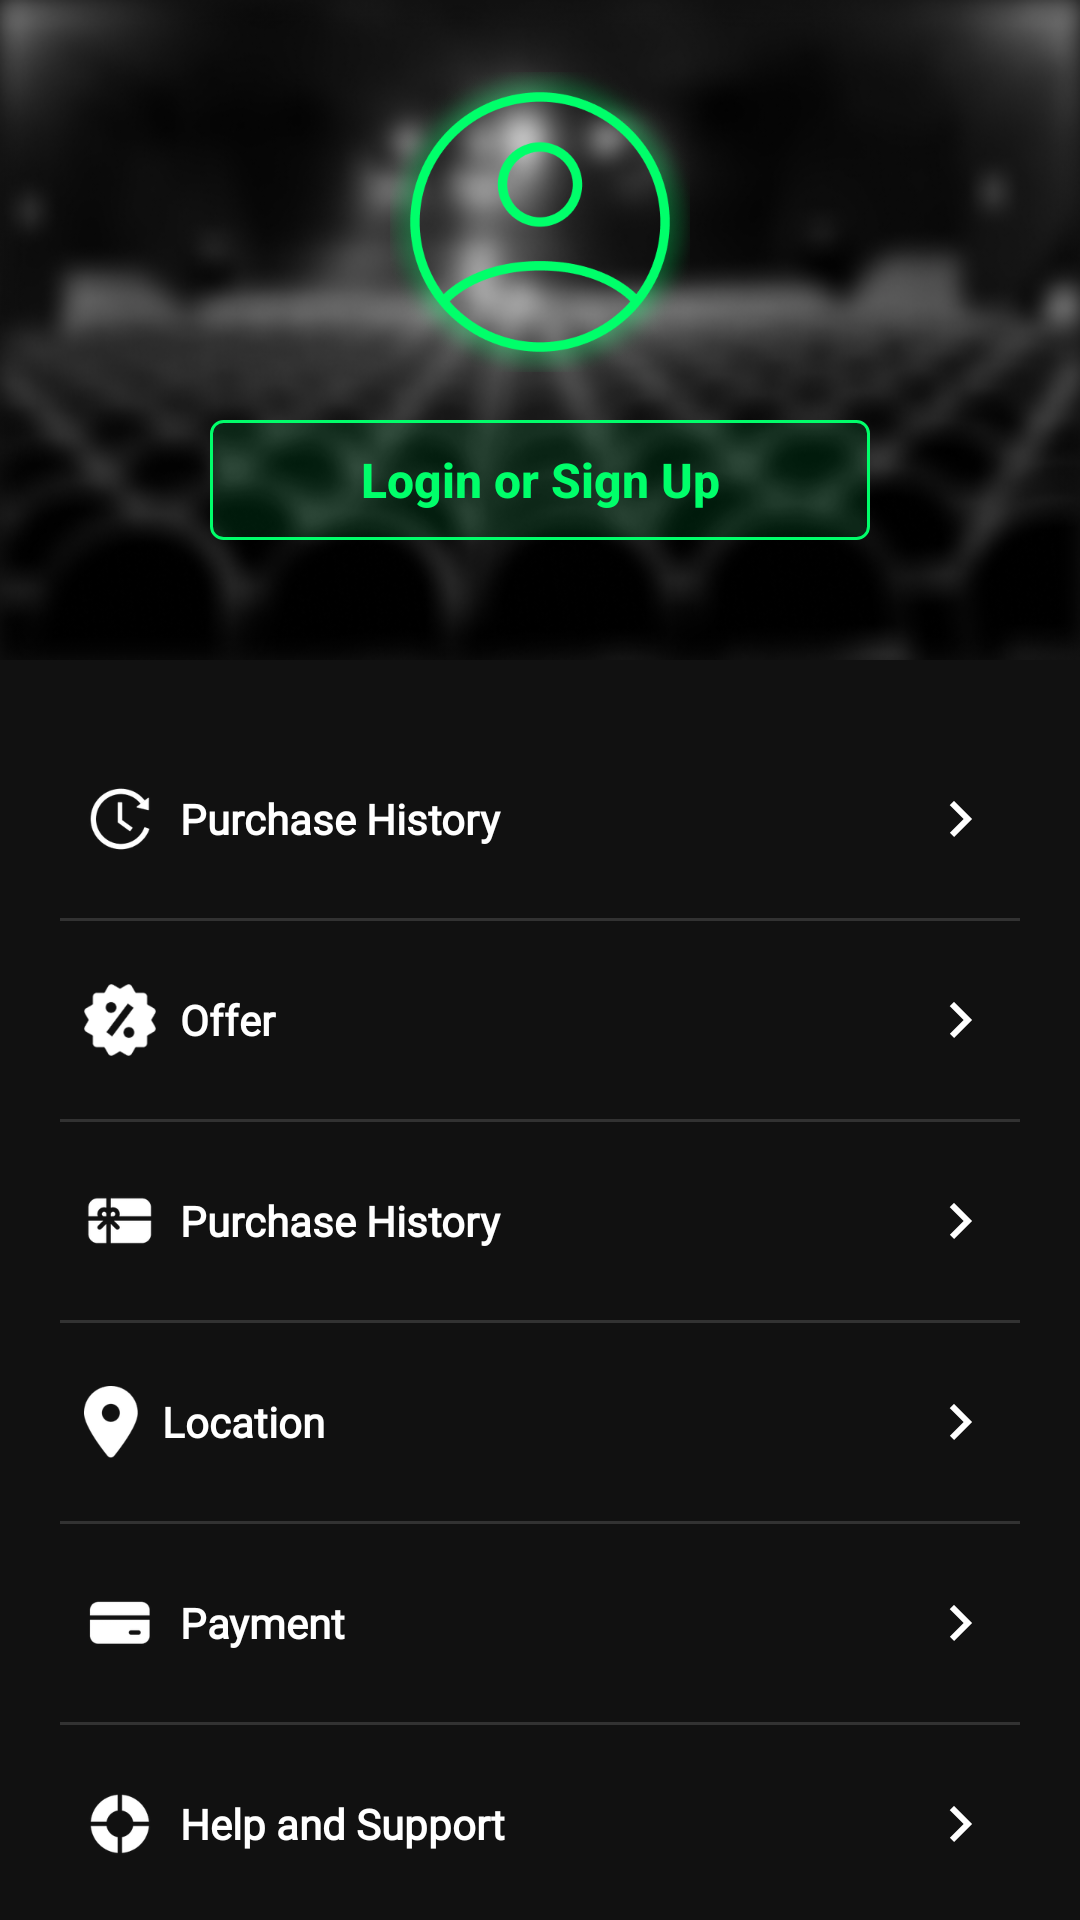

Where to tap for icons on this 1080 × 1920 app screen, as [x,y]:
profile: [540,222]
